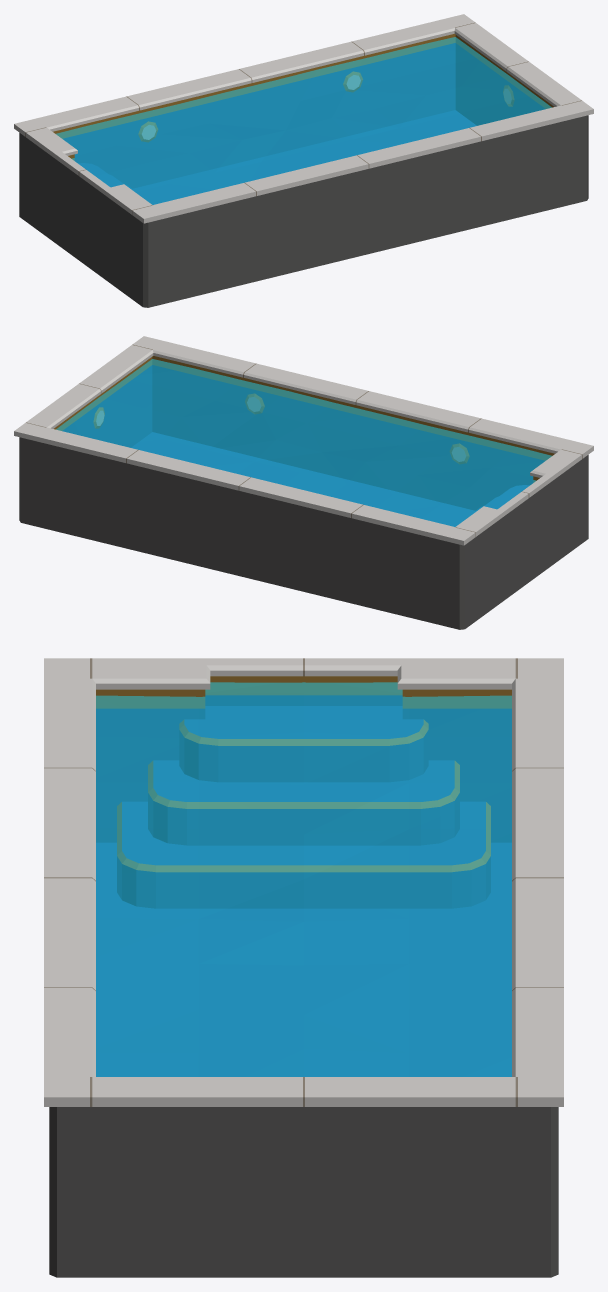
The model's file is resort-pool-basin-a98472.glb.
The picture shows the model from 3 angles, top to bottom: view 1: azimuth 30°, elevation 25°; view 2: azimuth 150°, elevation 25°; view 3: azimuth 270°, elevation 25°; orthographic projection. The views are drawn at different scales.
Visible parts, largest first — view 1: pool-basin, water; view 2: pool-basin, water; view 3: pool-basin, water.
Part boxes in pixels (x1,y1,x2,y2): pool-basin: [14, 14, 593, 307]; water: [56, 37, 551, 204]; pool-basin: [14, 336, 593, 629]; water: [56, 359, 551, 526]; pool-basin: [44, 658, 563, 1277]; water: [96, 682, 511, 1076].
Size of the model in its own units: 8 by 1.55 by 4.
